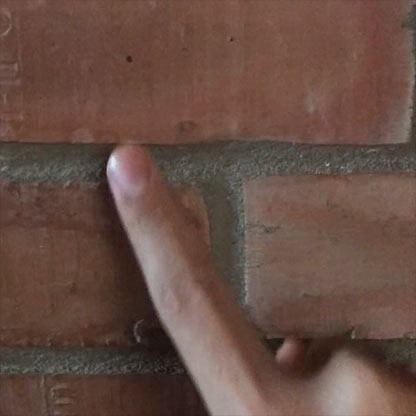fingertip: (104, 140, 165, 205)
